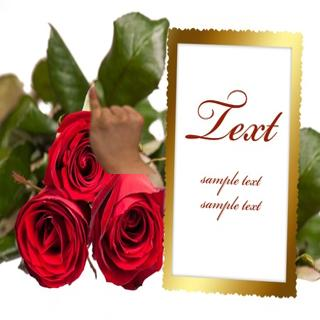FINE: (86, 85, 147, 170)
